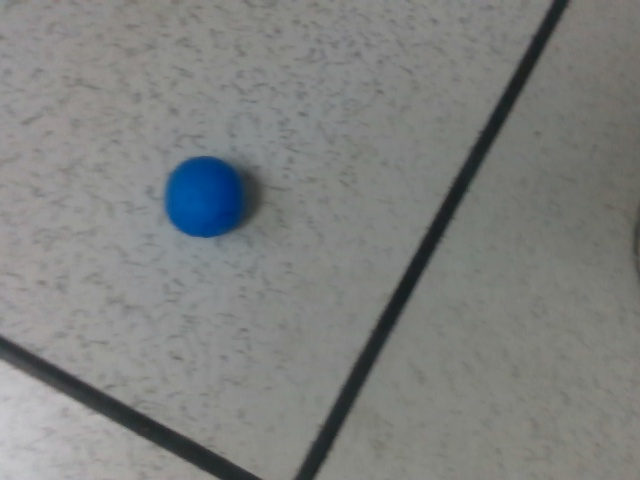blueball: (149, 149, 249, 239)
